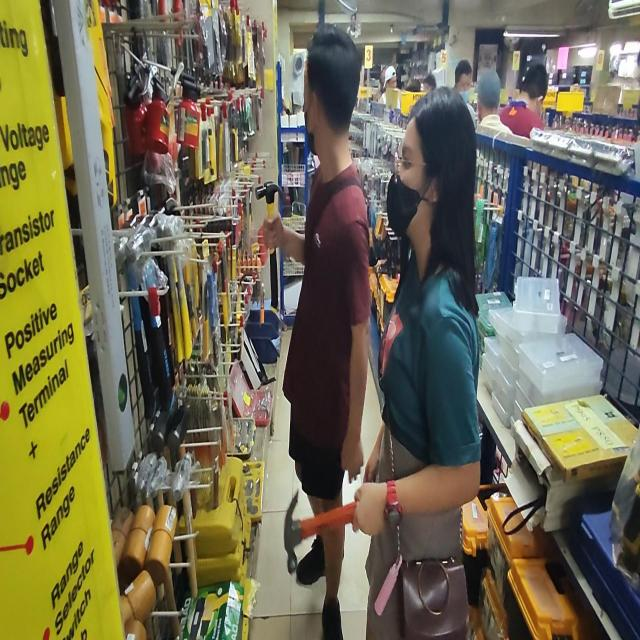hammer: (284, 489, 356, 574), (254, 182, 284, 308)
